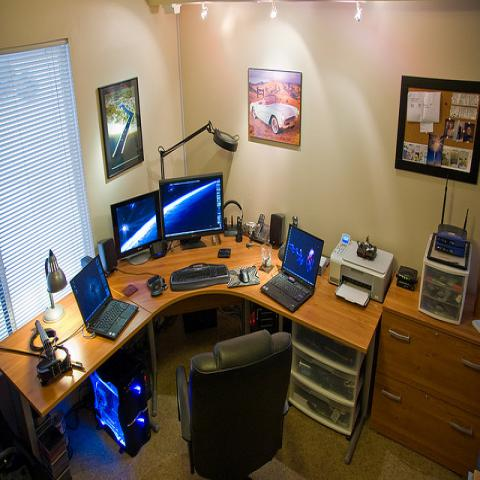car: (250, 93, 300, 134)
